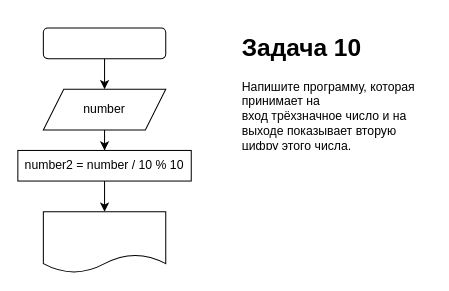
Some shapes in this 449 by 291 pixel diagram are drawn without their labels. The centre of each missing label's shape, as x and y in pixels:
"number2" belongs at point 104,242.
"start" belongs at point 104,43.
